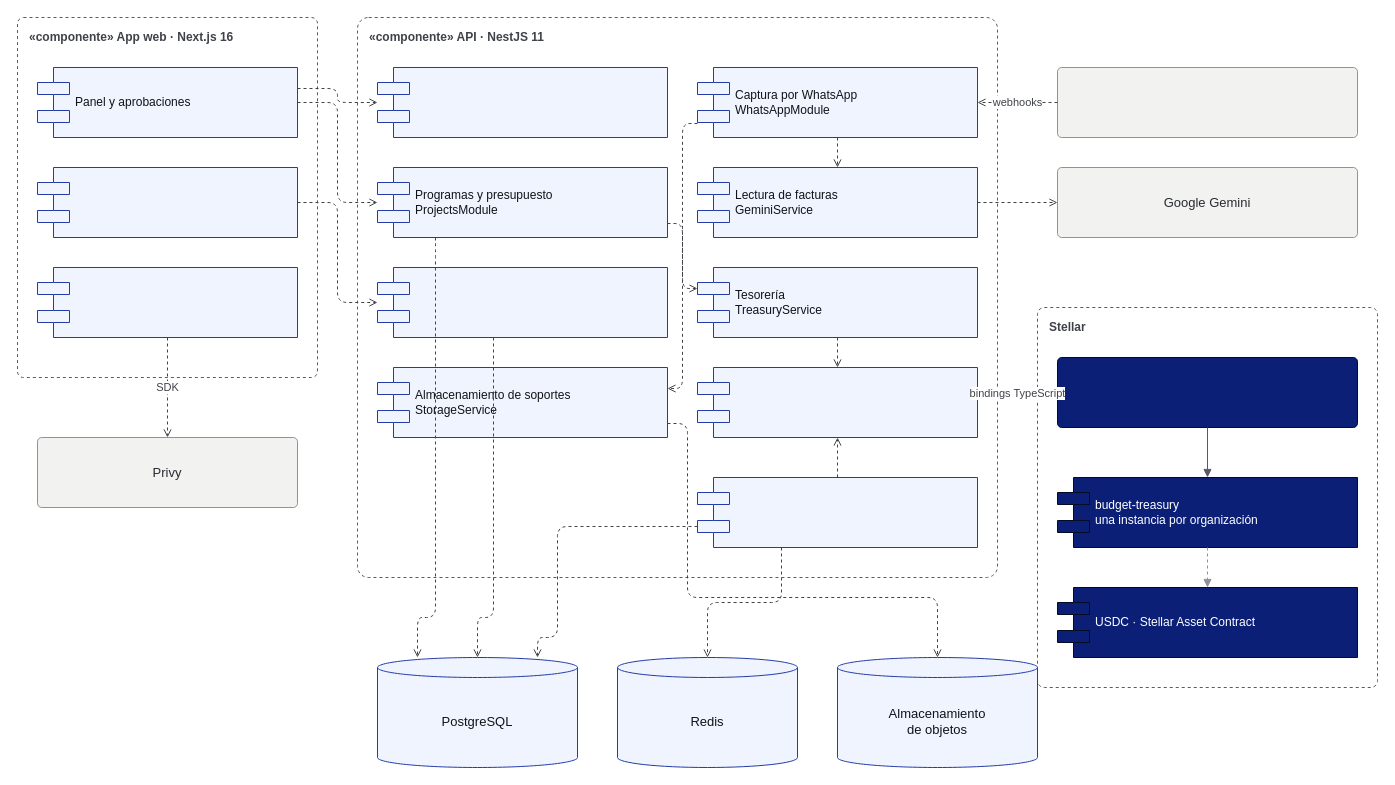
The diagram is 1395 pixels wide and 785 high, and some of its shapes have lost their labels. The centre of each missing label's shape, as x and y in pixels:
"Cliente Soroban TreasuryChainService" goes at point (837, 402).
"Explorador público /proof" goes at point (167, 202).
"Firmante integrado (Privy SDK)" goes at point (167, 302).
"Identidad y permisos AuthModule" goes at point (522, 102).
"Indexador cola treasury-ops · 15 s" goes at point (837, 512).
"Prueba pública PublicProofService" goes at point (522, 302).
"Stellar RPC" goes at point (1207, 392).
"WhatsApp Cloud API" goes at point (1207, 102).
